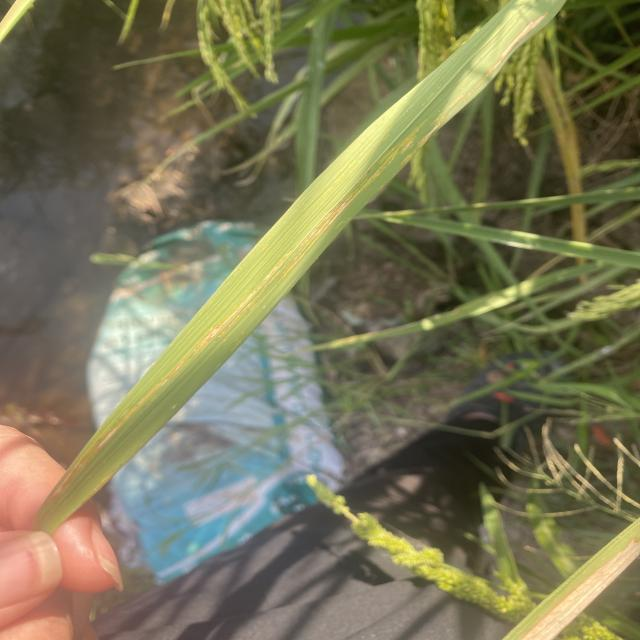Dom soc vi khuan: (98, 356, 187, 448), (203, 250, 292, 341), (477, 12, 548, 85), (306, 170, 371, 241), (361, 120, 427, 189), (45, 439, 99, 504), (324, 190, 360, 231), (418, 116, 444, 145)
